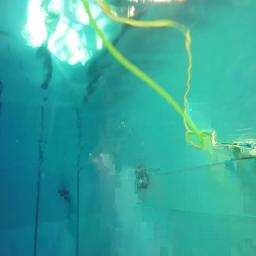Full: (57, 189, 72, 204), (134, 176, 149, 190), (58, 190, 70, 198)
front: (134, 174, 149, 190)
